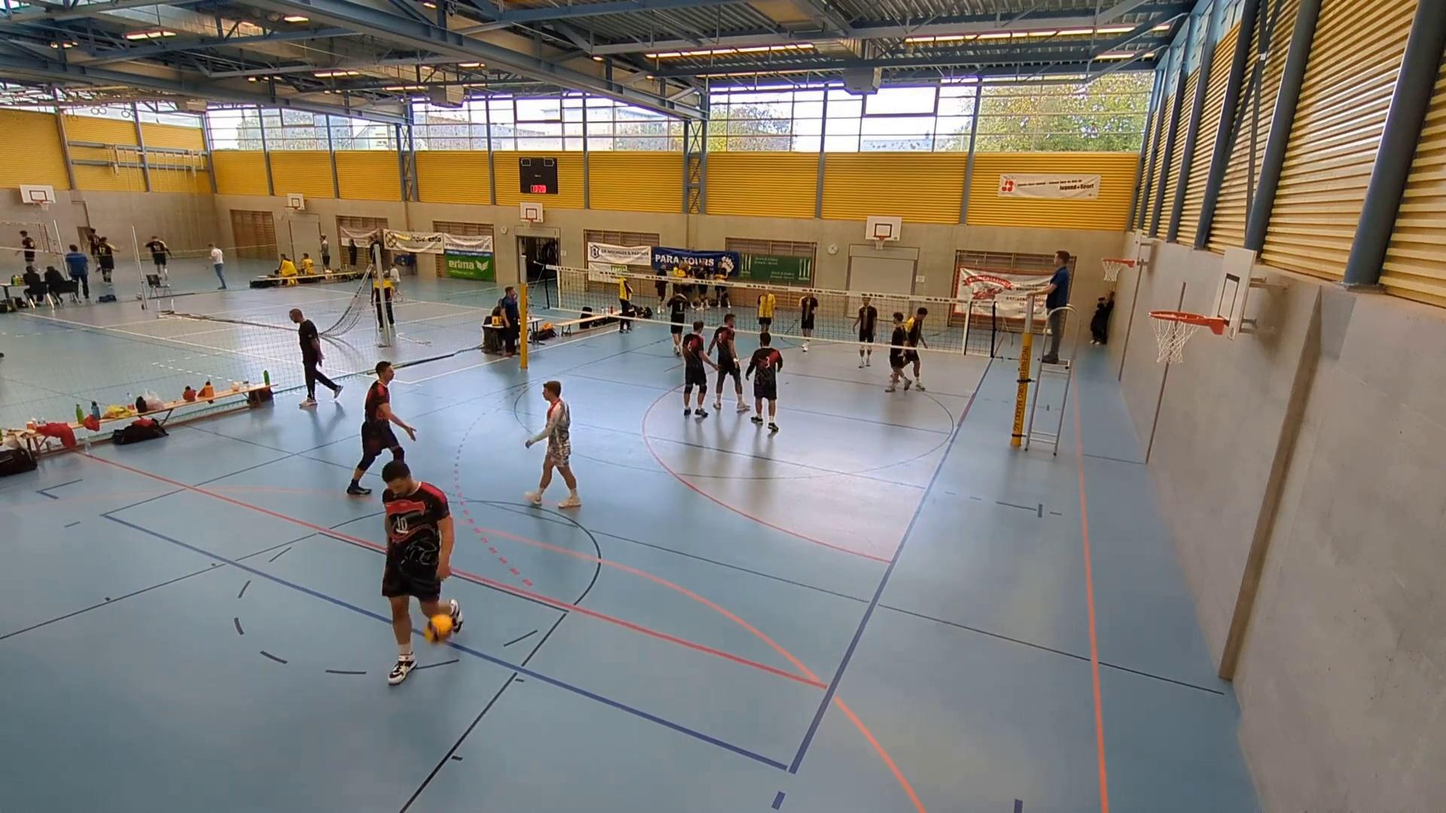Player: (377, 460, 457, 686), (346, 360, 417, 496), (523, 380, 580, 508), (744, 333, 784, 434), (712, 313, 746, 416), (680, 321, 712, 419), (886, 309, 914, 393), (906, 305, 927, 390), (855, 294, 878, 368), (667, 288, 690, 357), (795, 289, 818, 352), (757, 288, 777, 343)
ball: (423, 601, 460, 644)
